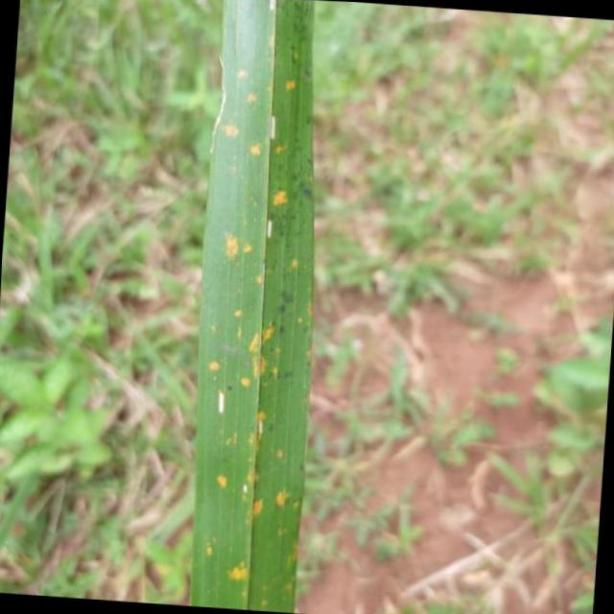Kalium: (193, 1, 321, 614)
